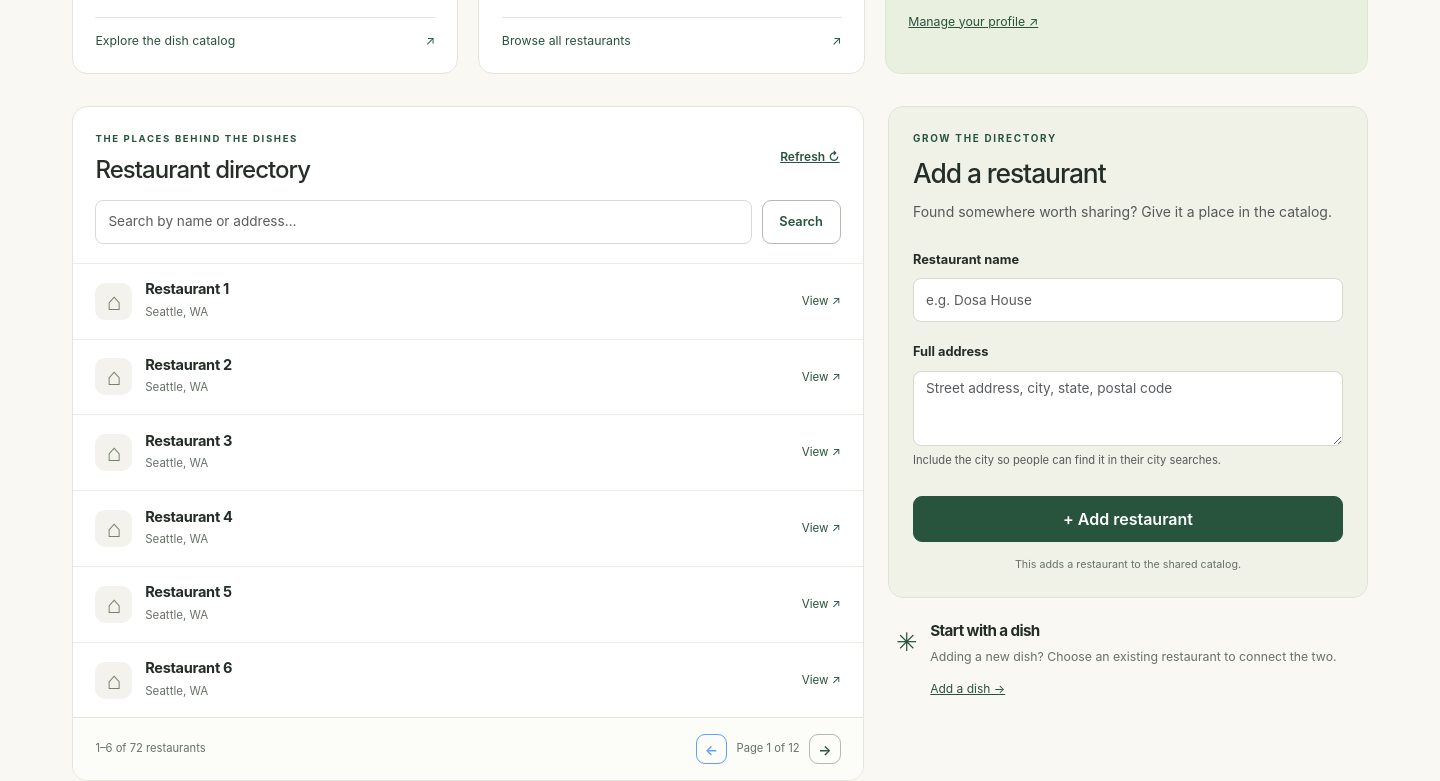
it: restaurant search resets pagination and retains its query on next page
The image size is (1440, 781).
Later steps or results of the test are not shown.
(page scrolled)
Expected: the link "Restaurant 1" is shown, [145, 280, 229, 298]
Step 1. Click the button named "Next restaurant page" → click(825, 749), box [809, 734, 841, 764]
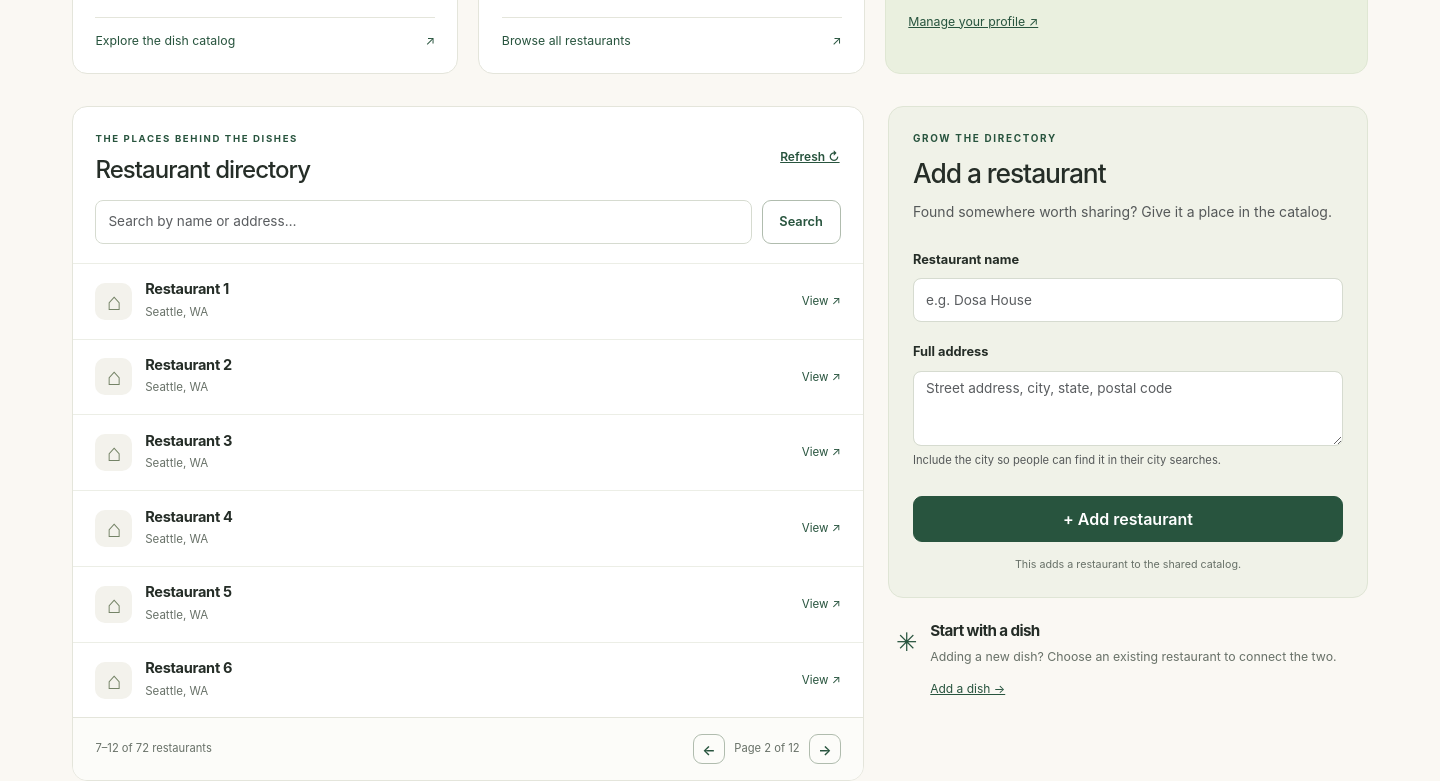
Expected: the text "7–12 of 72 restaurants" is shown, [95, 740, 212, 758]
Step 2. Type "Dosa" into the field named "Search restaurant directory" → (424, 222), box [95, 200, 752, 244]
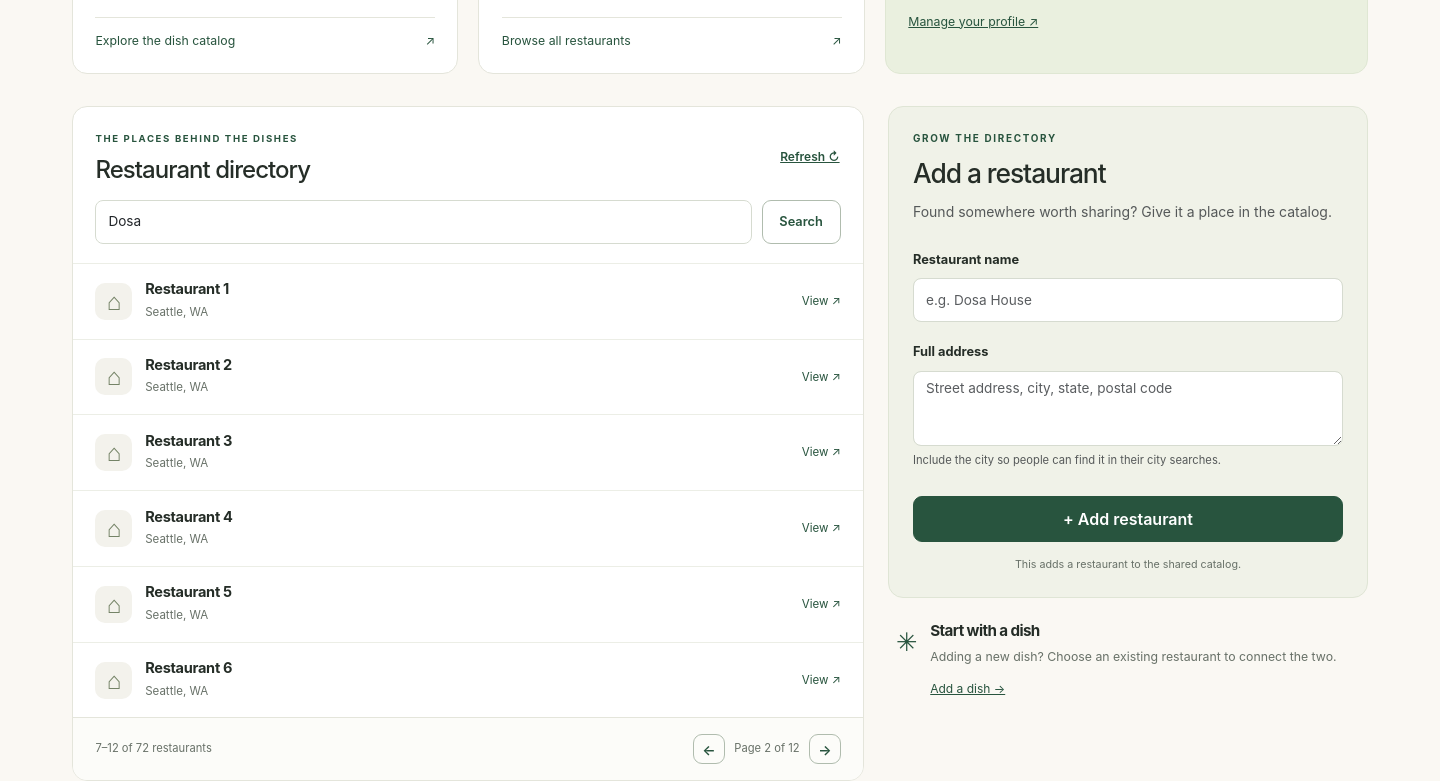
Step 3. Click the button "Search" → click(801, 222), box [762, 200, 840, 244]
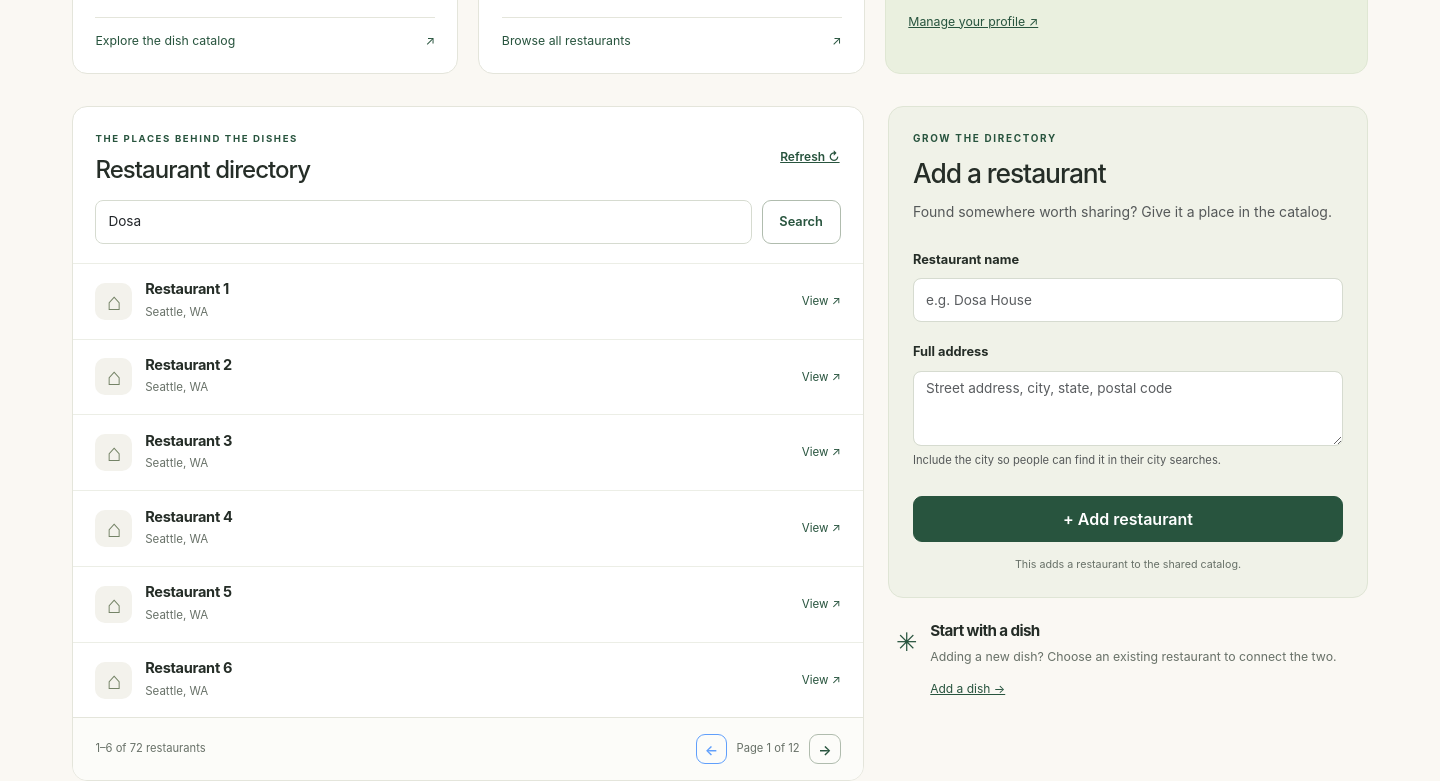
Expected: the text "1–6 of 72 restaurants" is shown, [95, 740, 206, 758]
